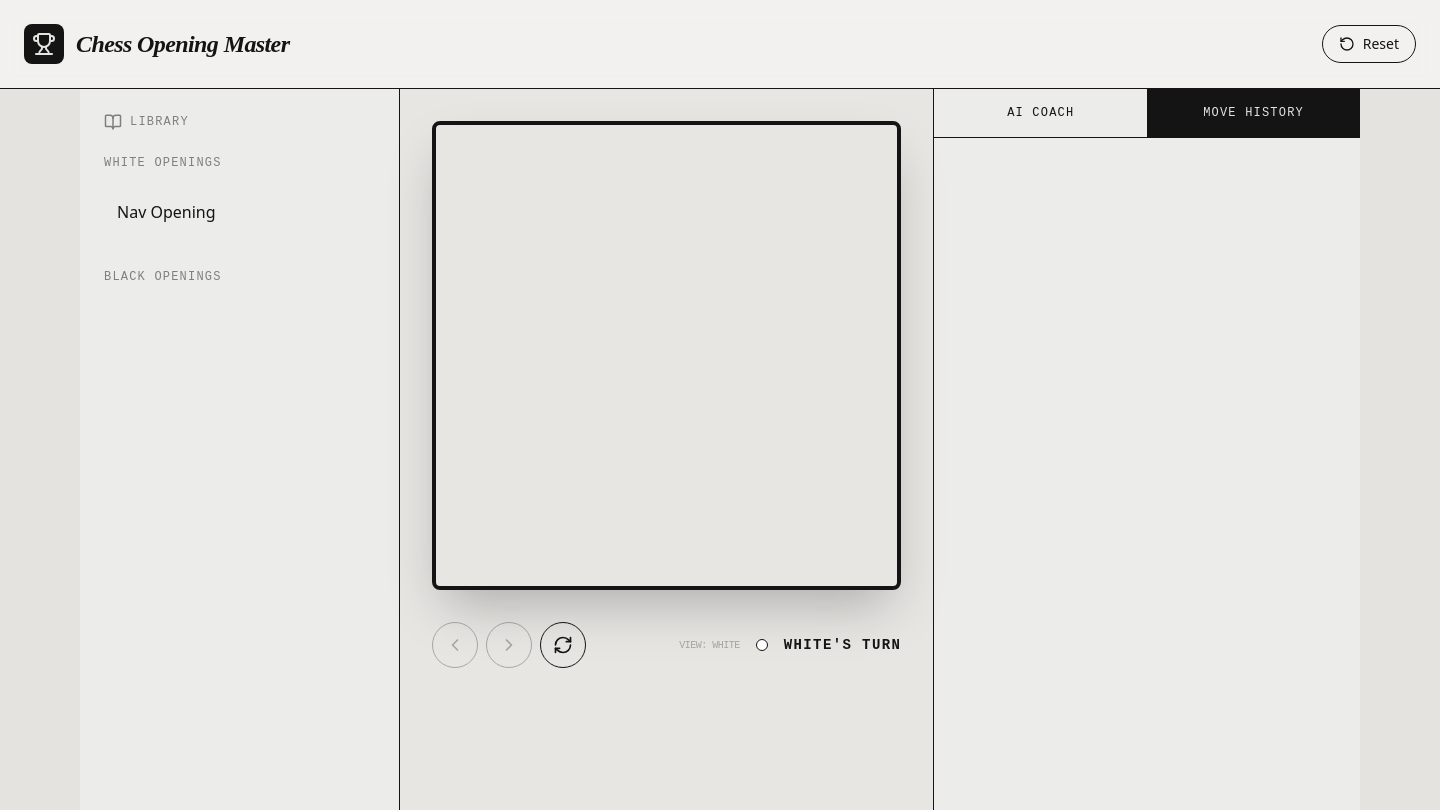
Test: App Component › Back/Forward Navigation › forward button becomes disabled again after returning to the latest move
Expected: the text "Nav Opening" is shown, [117,200,216,224]
Click the button "Nav Opening" at (166, 212), box [104,187,375,237]
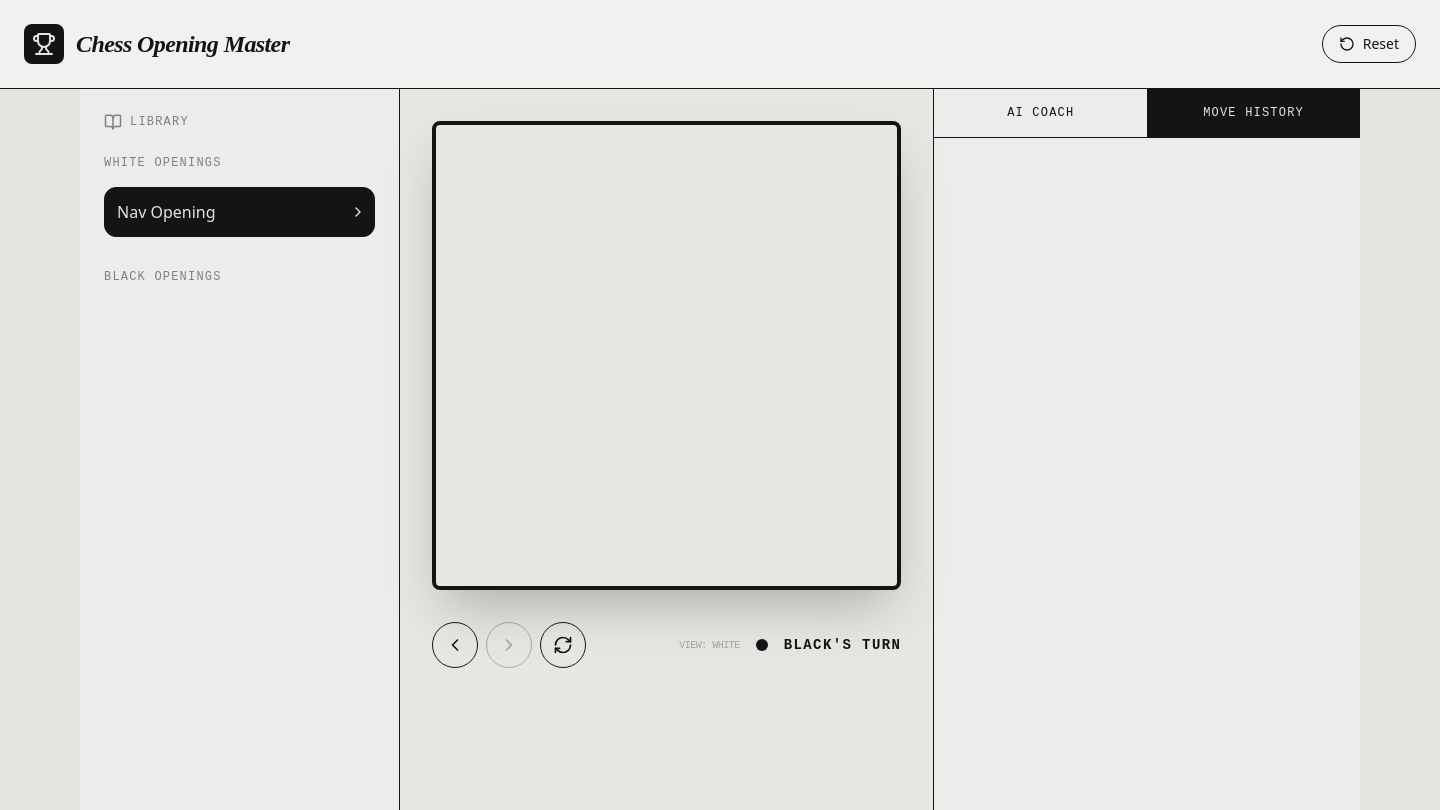
Click the button titled "Go Back" at (455, 645), box [432,622,478,668]
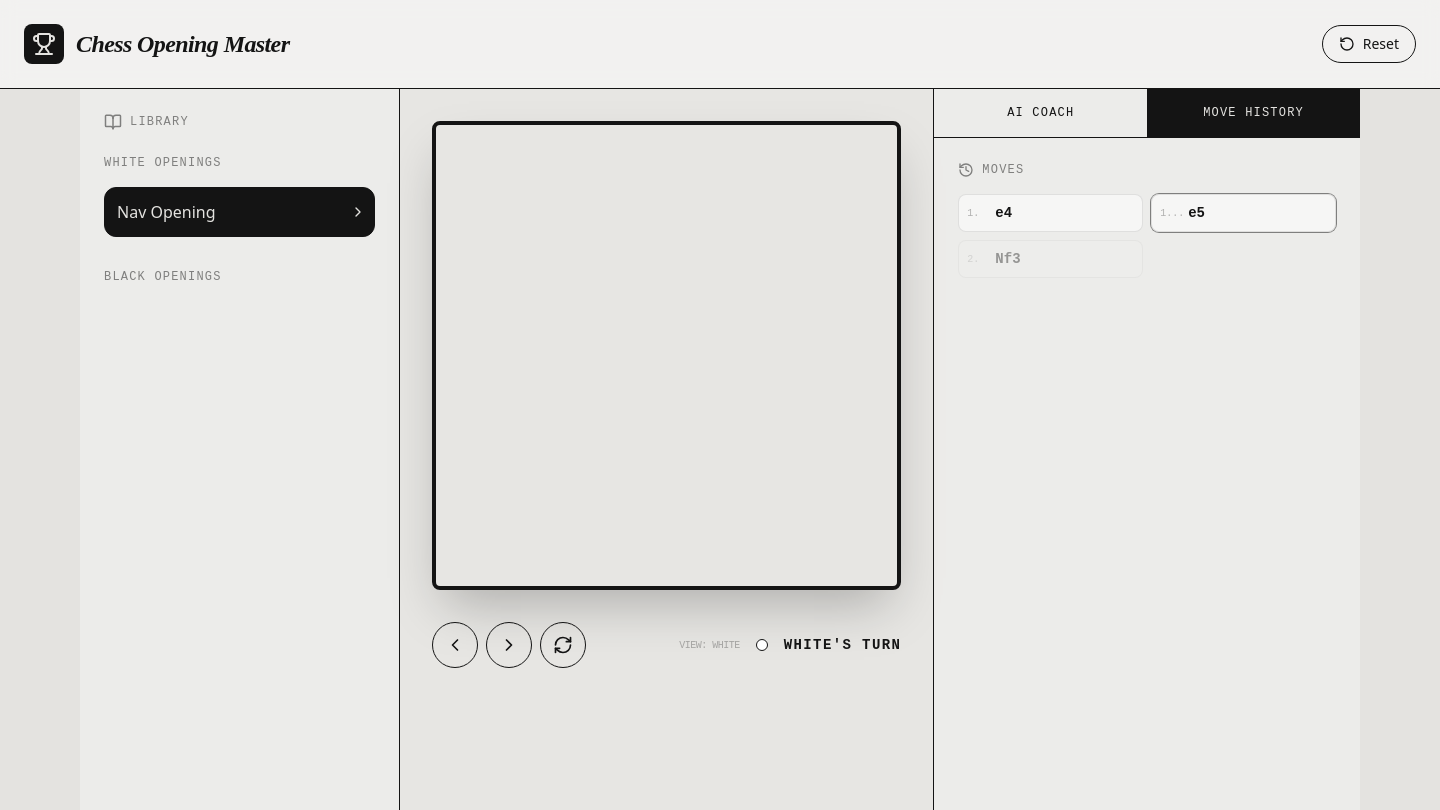
Click the button titled "Go Forward" at (509, 645), box [486,622,532,668]
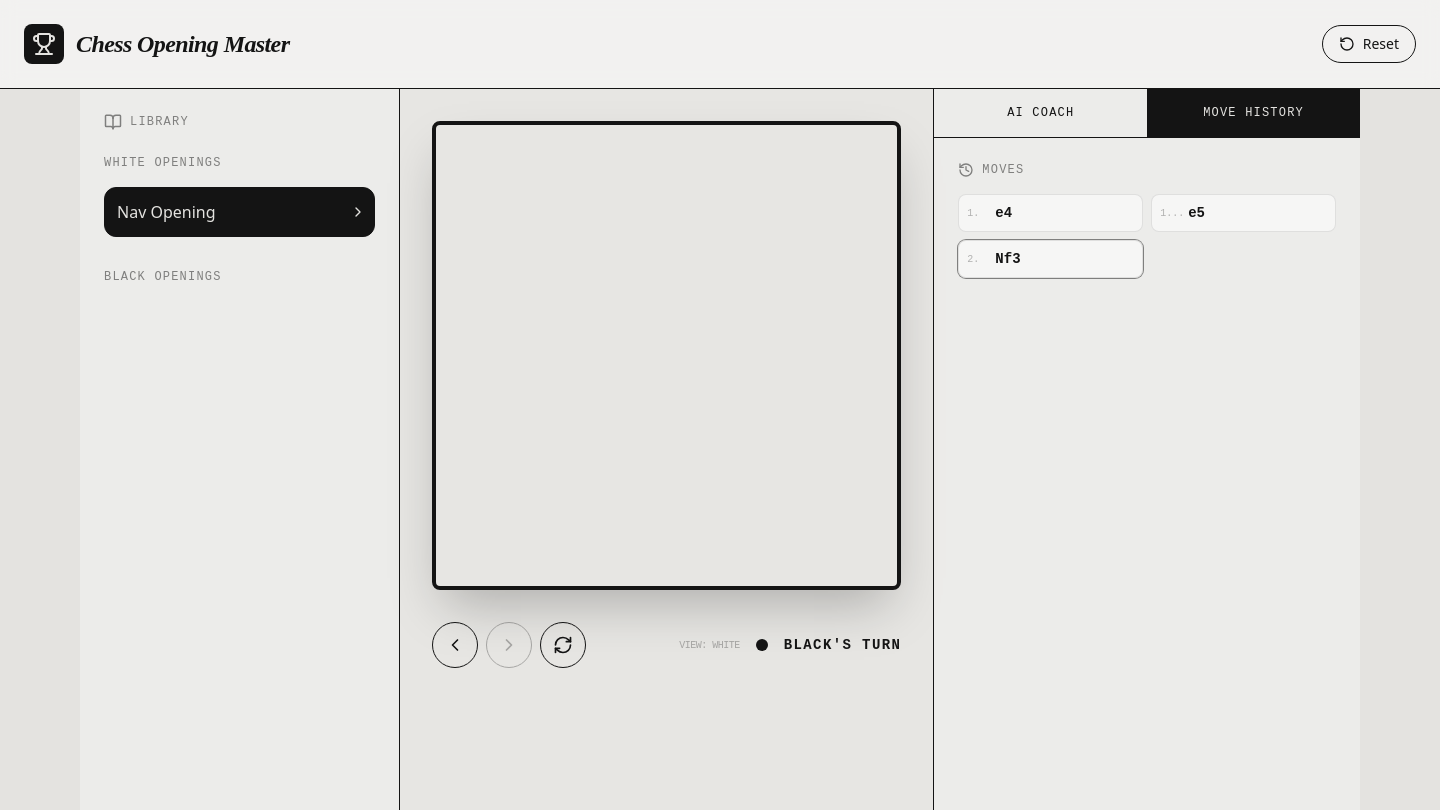
Expected: the button titled "Go Forward" is disabled, [486,622,532,668]
